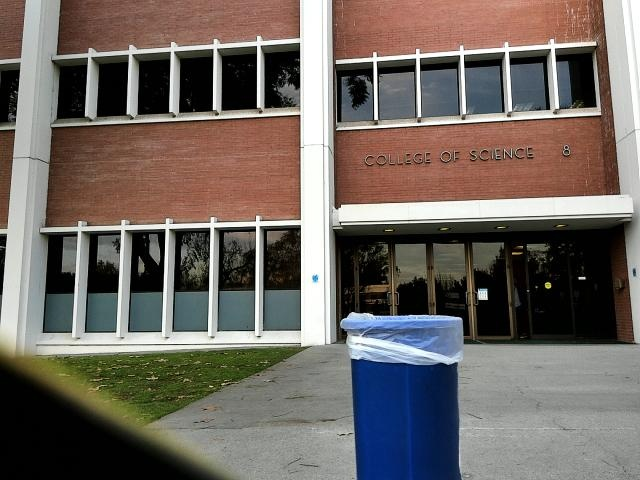trashcan_open: (337, 309, 487, 480)
